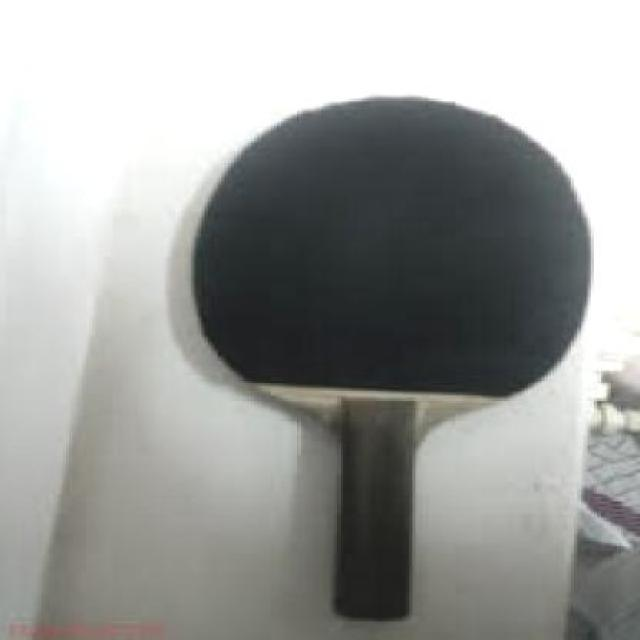table_tennis_racket: (195, 98, 592, 626)
